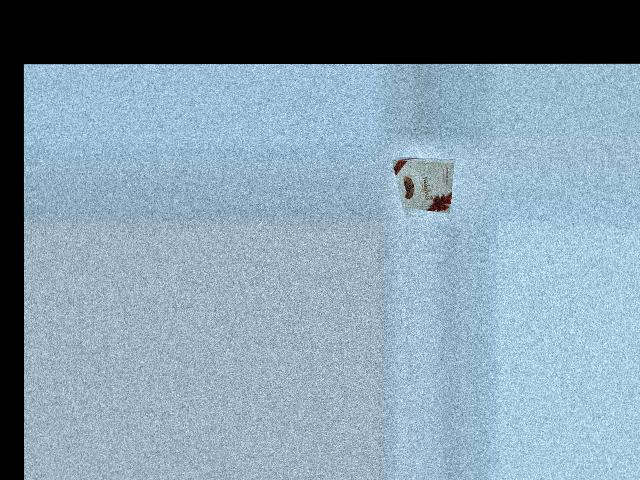chocolate: (389, 145, 452, 214)
